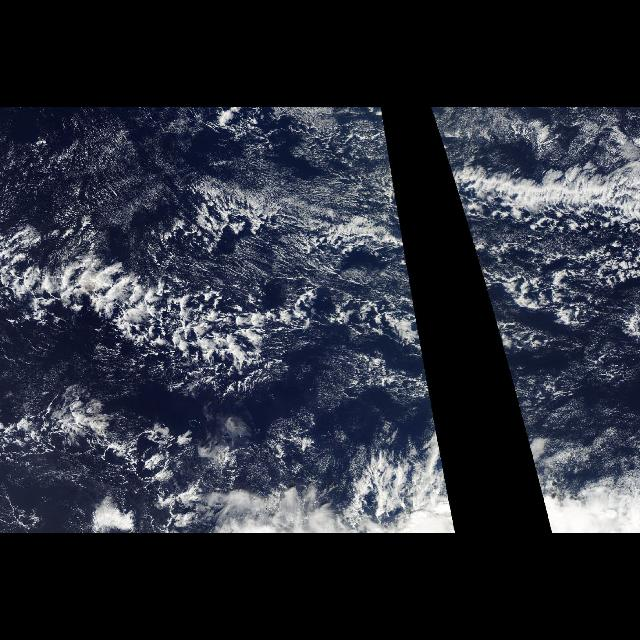Fish: (5, 232, 307, 388), (446, 123, 634, 239)
Sugar: (4, 111, 268, 237)
